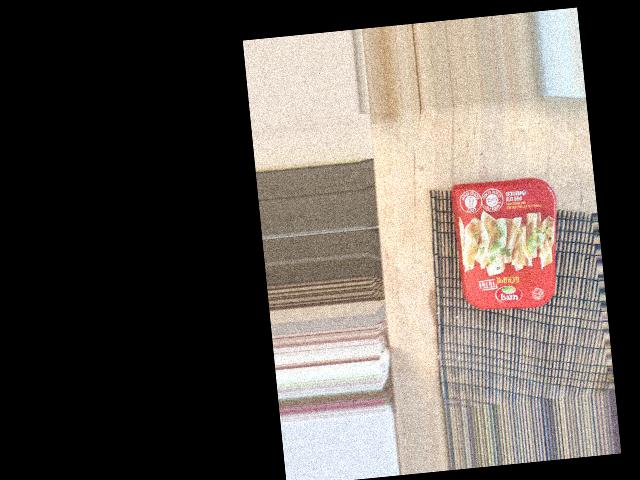cheese: (462, 260, 586, 367)
